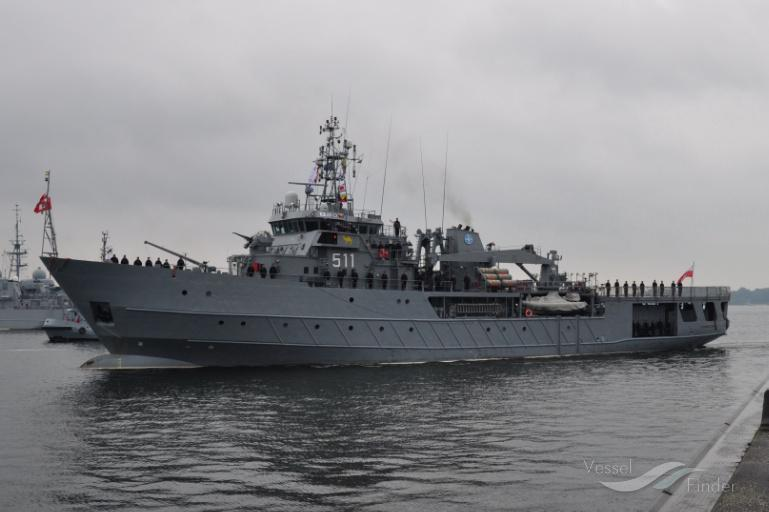OCR: (330, 249, 364, 273)
